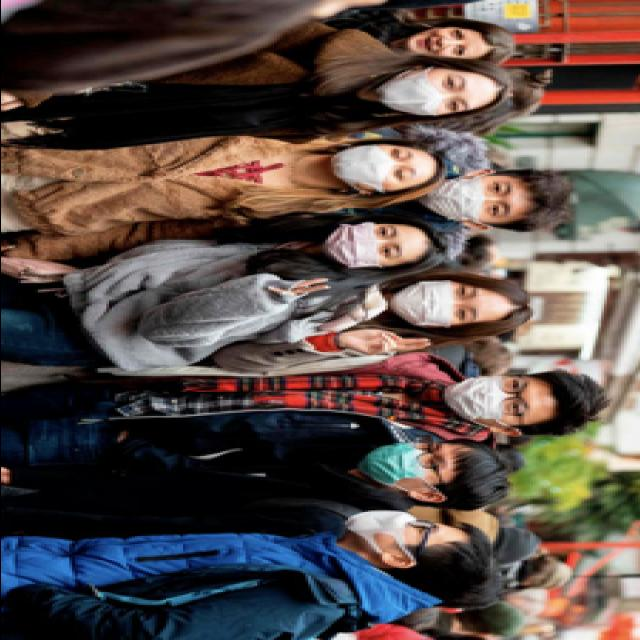with_mask: (440, 374, 540, 426), (424, 174, 520, 224), (392, 278, 487, 324), (362, 440, 452, 488), (324, 219, 410, 269), (344, 506, 446, 548), (381, 67, 475, 112), (336, 144, 422, 190)
without_mask: (410, 26, 476, 60)
